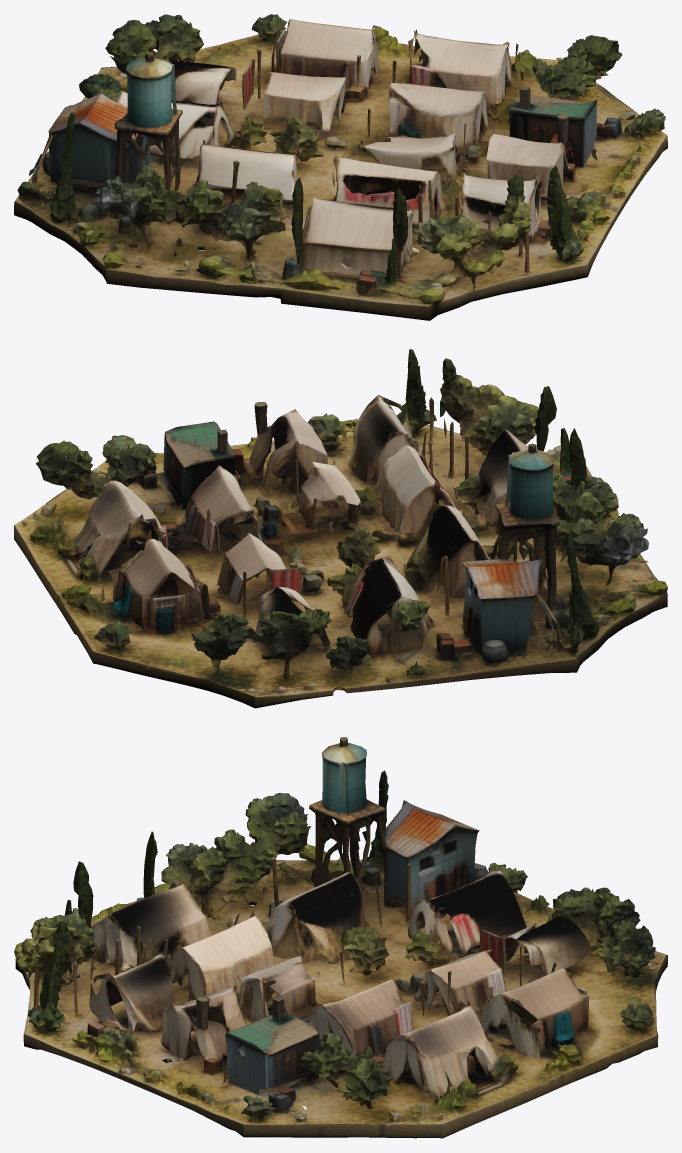
File: city_1948_maabara.glb
3 views of the same model, one above another, from view 1: azimuth 30°, elevation 25°; view 2: azimuth 150°, elevation 25°; view 3: azimuth 270°, elevation 25° (orthographic).
Parts seen in each view (by area): view 1: geometry_0; view 2: geometry_0; view 3: geometry_0.
Part boxes in pixels (<box>): geometry_0: <box>14,14,667,320</box>; geometry_0: <box>14,349,667,708</box>; geometry_0: <box>14,737,667,1138</box>.
Size of the model in its own units: 1.01 by 0.2958 by 1.
Materials: 1 (1 with a texture image).
